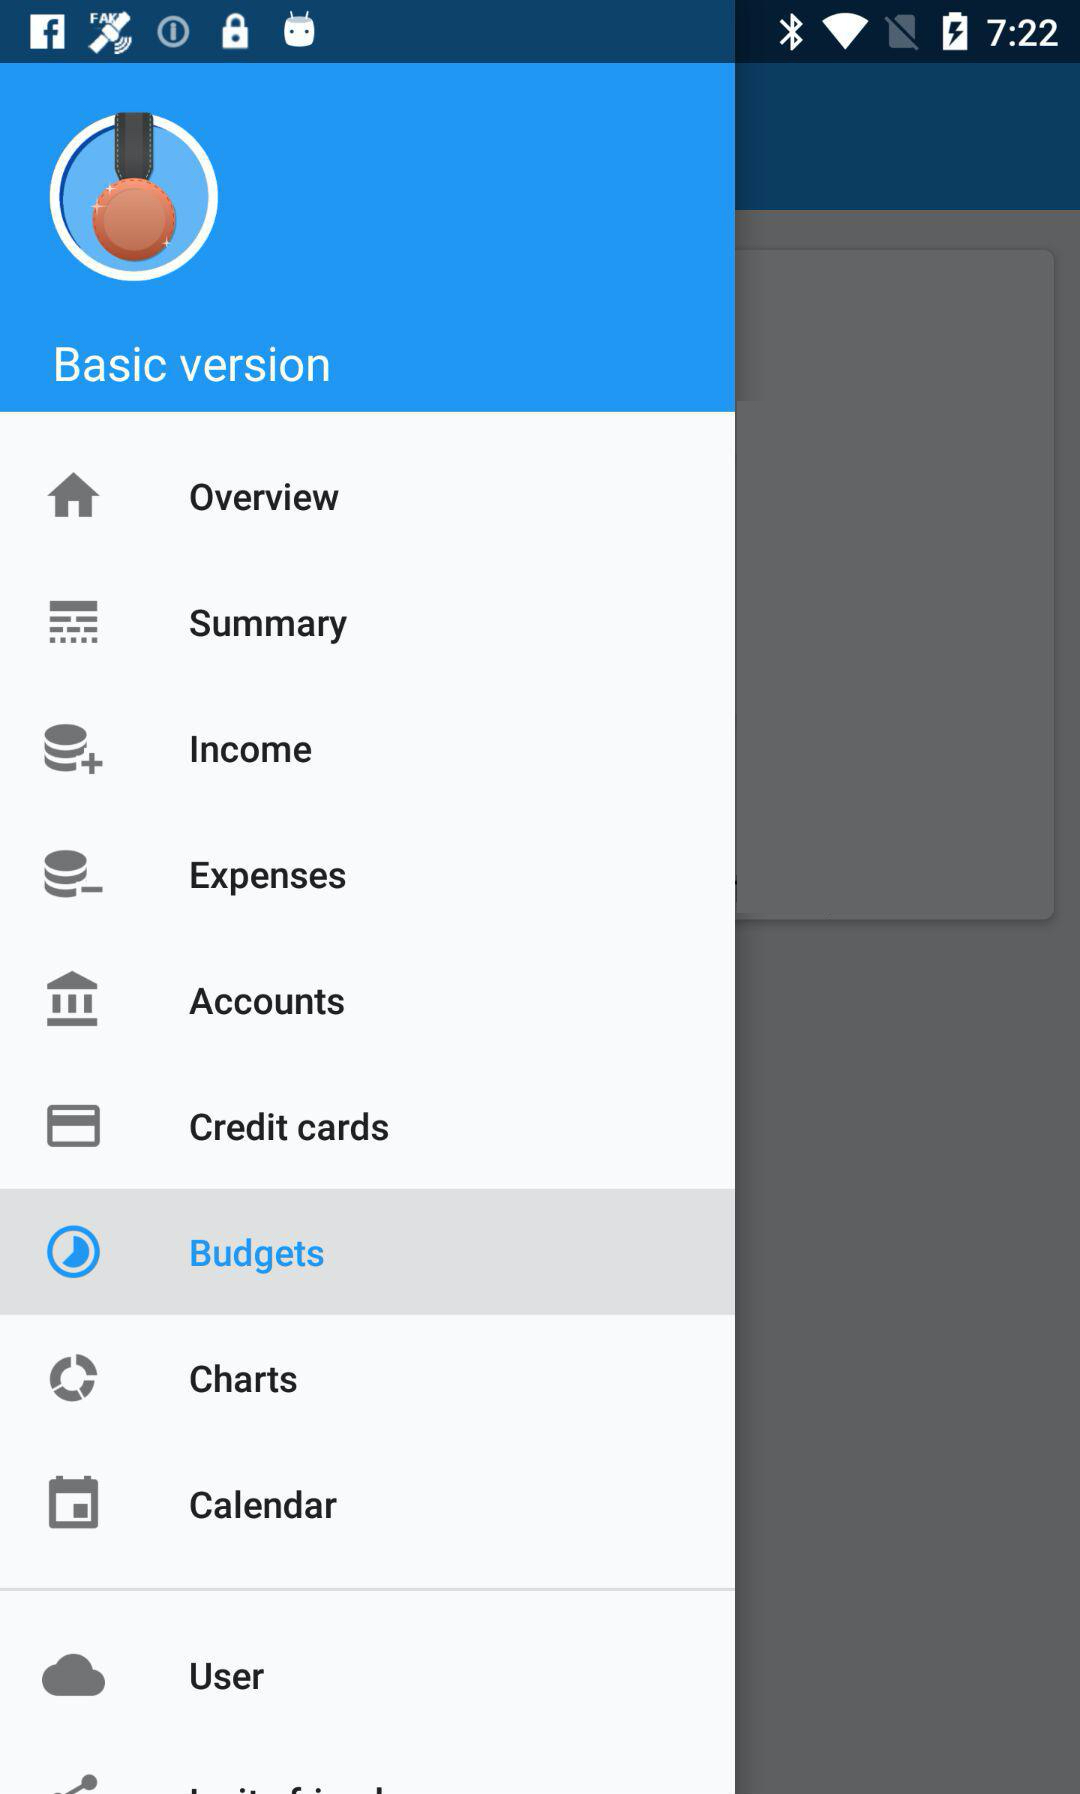Drawer: (1, 64, 735, 1794)
Icon: (47, 970, 99, 1026), (42, 1653, 108, 1697), (49, 1475, 100, 1530), (47, 472, 102, 519), (47, 1105, 102, 1148), (49, 600, 100, 645)
Image: (50, 111, 222, 283), (44, 724, 105, 777), (44, 850, 105, 900), (47, 1225, 102, 1279), (50, 1353, 99, 1402)
Text: (56, 346, 329, 384), (190, 1111, 389, 1142), (190, 609, 348, 646), (190, 860, 347, 897), (190, 1237, 325, 1276), (190, 987, 346, 1017), (190, 1488, 340, 1520), (190, 482, 341, 513), (191, 734, 313, 764), (190, 1362, 299, 1394), (190, 1661, 266, 1691)
UpperTaskBar: (1, 1, 1080, 64)
